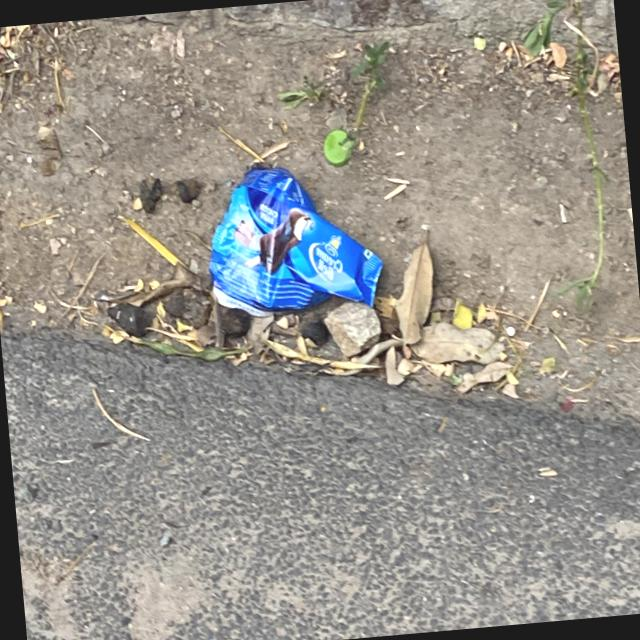giay_goi: (210, 165, 382, 312)
